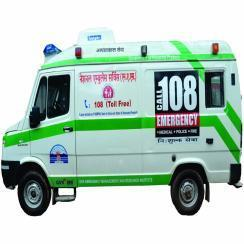Ambulance: (153, 71, 202, 138)
